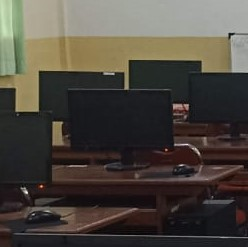monitor: (67, 88, 174, 152), (38, 71, 125, 122), (0, 110, 53, 186), (128, 60, 202, 104), (187, 72, 247, 125), (0, 87, 17, 113)
